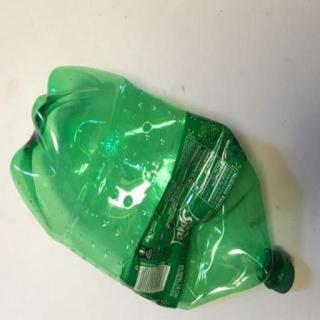Plastic-bottle: (11, 65, 296, 311)
